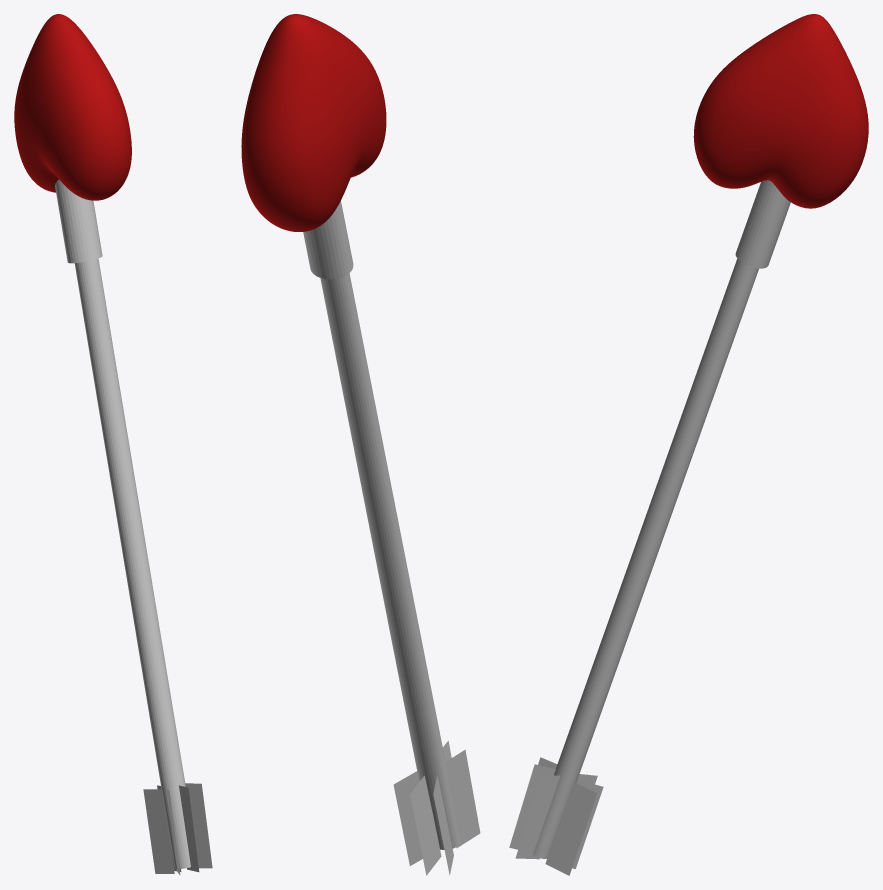
Rendered from BELOVED BOW ARROWS.obj.
3 views of the same model, side by side, from view 1: azimuth 30°, elevation 25°; view 2: azimuth 150°, elevation 25°; view 3: azimuth 270°, elevation 25° (orthographic). The views are drawn at different scales.
Visible parts, largest first — view 1: 12190_Heart_v1_L3.002, Cylinder.001, Cylinder.002, Plane.002, Plane.004, Plane.005; view 2: 12190_Heart_v1_L3.002, Cylinder.001, Cylinder.002, Plane.003, Plane, Plane.001, Plane.002; view 3: 12190_Heart_v1_L3.002, Cylinder.001, Cylinder.002, Plane.001, Plane.004, Plane.005.
Boxes of the visible parts, x1=… form: 12190_Heart_v1_L3.002: x1=14, y1=14, x2=131, y2=200; Cylinder.001: x1=74, y1=258, x2=198, y2=868; Cylinder.002: x1=55, y1=179, x2=102, y2=263; Plane.002: x1=143, y1=789, x2=174, y2=873; Plane.004: x1=185, y1=783, x2=212, y2=868; Plane.005: x1=179, y1=785, x2=199, y2=872; 12190_Heart_v1_L3.002: x1=241, y1=14, x2=386, y2=231; Cylinder.001: x1=320, y1=273, x2=460, y2=849; Cylinder.002: x1=303, y1=201, x2=353, y2=279; Plane.003: x1=445, y1=749, x2=480, y2=847; Plane: x1=410, y1=775, x2=441, y2=875; Plane.001: x1=393, y1=771, x2=422, y2=865; Plane.002: x1=433, y1=775, x2=453, y2=875; 12190_Heart_v1_L3.002: x1=693, y1=14, x2=868, y2=208; Cylinder.001: x1=533, y1=259, x2=758, y2=858; Cylinder.002: x1=735, y1=180, x2=790, y2=268; Plane.001: x1=545, y1=782, x2=597, y2=875; Plane.004: x1=515, y1=775, x2=560, y2=859; Plane.005: x1=509, y1=764, x2=555, y2=849.
Size of the model in its own units: 0.2517 by 2.42 by 0.9223.
